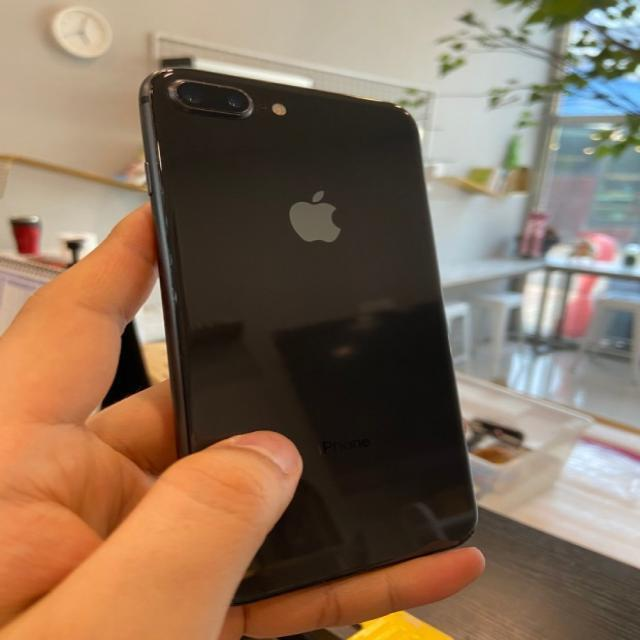phone: (139, 67, 482, 606)
